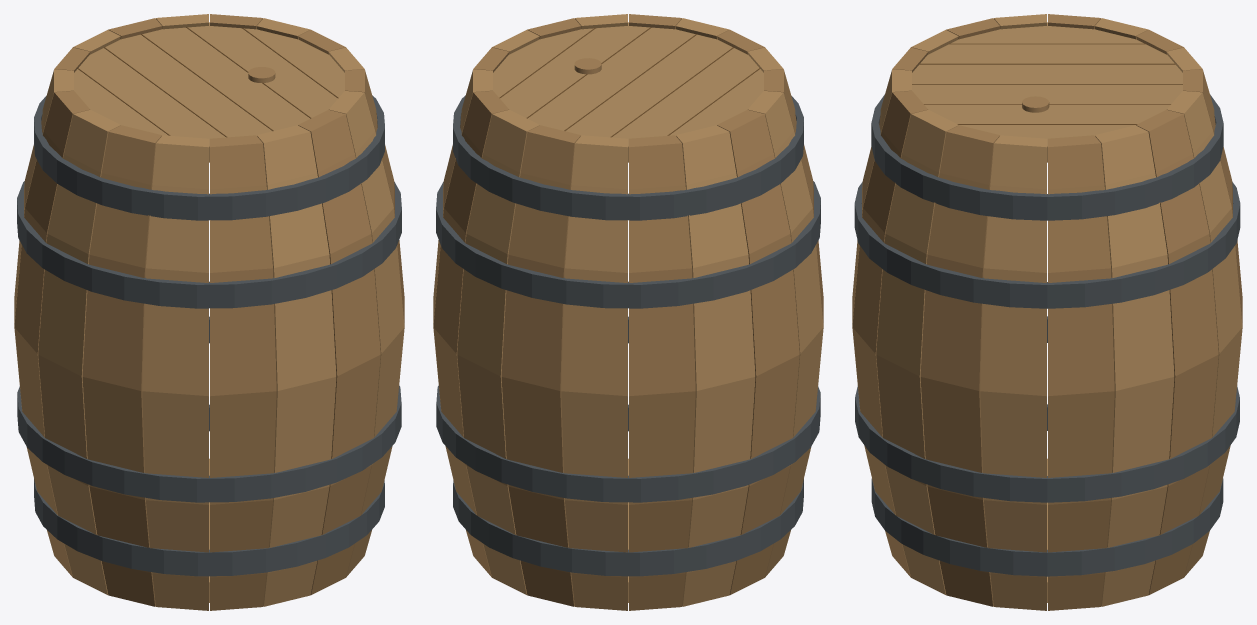
File: barrel_wooden.glb
3 renders of one model, left to right at view 1: azimuth 30°, elevation 25°; view 2: azimuth 150°, elevation 25°; view 3: azimuth 270°, elevation 25°, orthographic.
Parts seen in each view (by area): view 1: Recessed wooden lid, Closed oak barrel wooden stave.011, Closed oak barrel wooden stave.012, Closed oak barrel wooden stave.013, Closed oak barrel wooden stave.010, Closed oak barrel wooden stave.009, Closed oak barrel wooden stave.014, Fitted iron hoop.002, Fitted iron hoop.003, Fitted iron hoop.001, Fitted iron hoop, Closed oak barrel wooden stave.015 (+9 smaller); view 2: Recessed wooden lid, Closed oak barrel wooden stave.006, Closed oak barrel wooden stave.005, Closed oak barrel wooden stave.004, Closed oak barrel wooden stave.007, Closed oak barrel wooden stave.008, Closed oak barrel wooden stave.003, Fitted iron hoop.002, Fitted iron hoop.003, Fitted iron hoop.001, Fitted iron hoop, Closed oak barrel wooden stave.002 (+9 smaller); view 3: Recessed wooden lid, Closed oak barrel wooden stave, Closed oak barrel wooden stave.017, Closed oak barrel wooden stave.001, Closed oak barrel wooden stave.016, Closed oak barrel wooden stave.002, Closed oak barrel wooden stave.015, Fitted iron hoop.002, Fitted iron hoop.003, Fitted iron hoop.001, Fitted iron hoop, Closed oak barrel wooden stave.003 (+9 smaller).
Boxes of the visible parts, box(x1,y1,x2,y2) form: Recessed wooden lid: box(74, 22, 344, 162); Closed oak barrel wooden stave.011: box(142, 135, 208, 610); Closed oak barrel wooden stave.012: box(210, 135, 276, 610); Closed oak barrel wooden stave.013: box(257, 125, 336, 606); Closed oak barrel wooden stave.010: box(82, 125, 161, 606); Closed oak barrel wooden stave.009: box(38, 110, 120, 594); Closed oak barrel wooden stave.014: box(298, 110, 380, 594); Fitted iron hoop.002: box(17, 181, 401, 308); Fitted iron hoop.003: box(34, 95, 384, 220); Fitted iron hoop.001: box(17, 316, 401, 502); Fitted iron hoop: box(34, 404, 384, 576); Closed oak barrel wooden stave.015: box(328, 91, 404, 577); Recessed wooden lid: box(493, 22, 763, 162); Closed oak barrel wooden stave.006: box(629, 135, 695, 610); Closed oak barrel wooden stave.005: box(561, 135, 627, 610); Closed oak barrel wooden stave.004: box(501, 125, 580, 606); Closed oak barrel wooden stave.007: box(676, 125, 755, 606); Closed oak barrel wooden stave.008: box(717, 110, 799, 594); Closed oak barrel wooden stave.003: box(457, 110, 539, 594); Fitted iron hoop.002: box(436, 181, 820, 308); Fitted iron hoop.003: box(453, 95, 803, 220); Fitted iron hoop.001: box(436, 316, 820, 502); Fitted iron hoop: box(453, 404, 803, 576); Closed oak barrel wooden stave.002: box(433, 91, 509, 577); Recessed wooden lid: box(912, 22, 1182, 162); Closed oak barrel wooden stave: box(1048, 135, 1114, 610); Closed oak barrel wooden stave.017: box(980, 135, 1046, 610); Closed oak barrel wooden stave.001: box(1095, 125, 1174, 606); Closed oak barrel wooden stave.016: box(920, 125, 999, 606); Closed oak barrel wooden stave.002: box(1136, 110, 1218, 594); Closed oak barrel wooden stave.015: box(876, 110, 958, 594); Fitted iron hoop.002: box(854, 182, 1240, 308); Fitted iron hoop.003: box(871, 94, 1223, 220); Fitted iron hoop.001: box(855, 316, 1239, 502); Fitted iron hoop: box(871, 404, 1223, 576); Closed oak barrel wooden stave.003: box(1166, 91, 1242, 577).
Bounding box in the file's own units: 0.666 × 0.862 × 0.6562.
